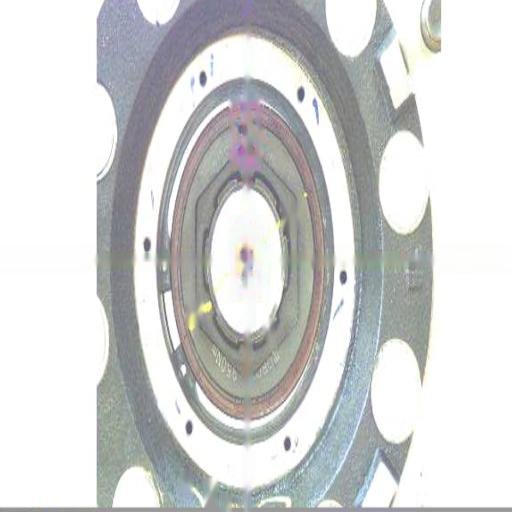center: (237, 239, 253, 275)
notch: (232, 120, 250, 145)
